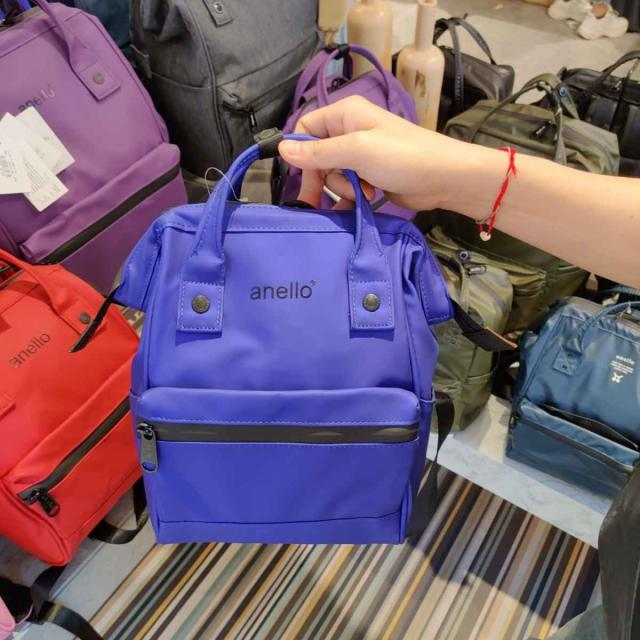handbag: (122, 178, 454, 552)
